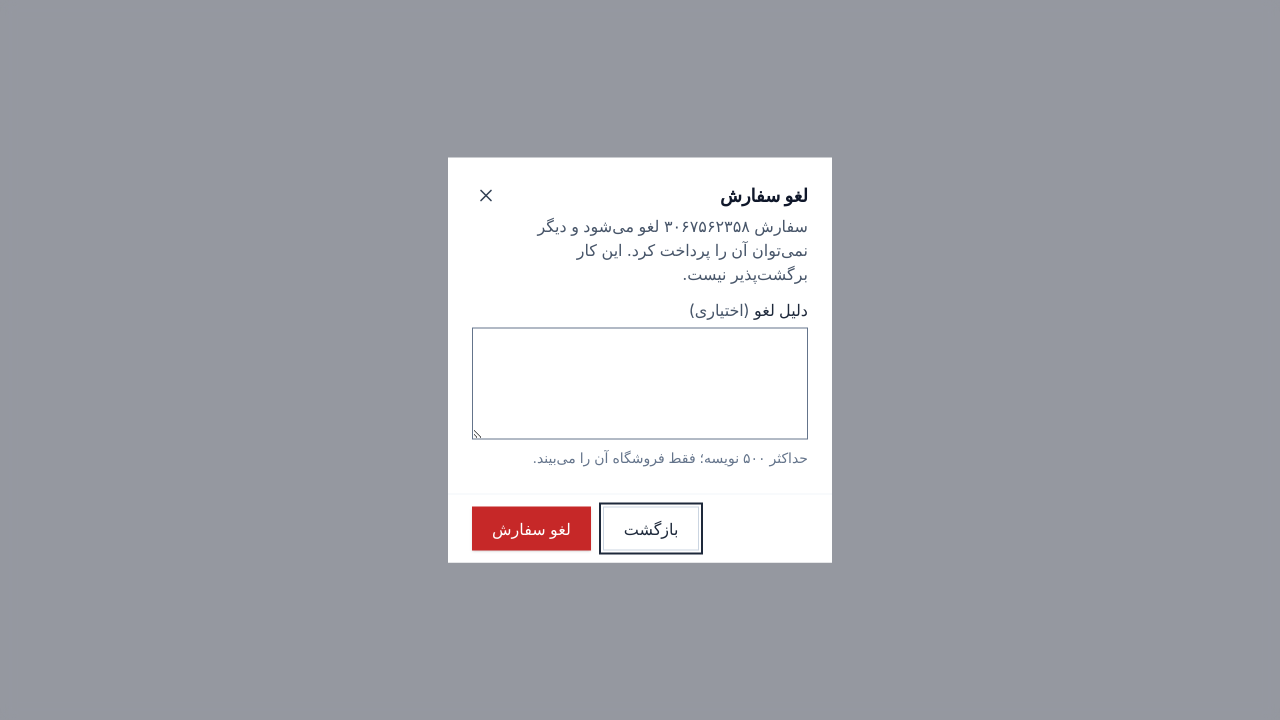
Test: refused › 409 order_cancellation_not_allowed: said, the order read again, only «بازگشت» left
The width and height of the screenshot is (1280, 720).
Click the button "لغو سفارش". click: {"x": 531, "y": 528}
box: [472, 506, 591, 550]
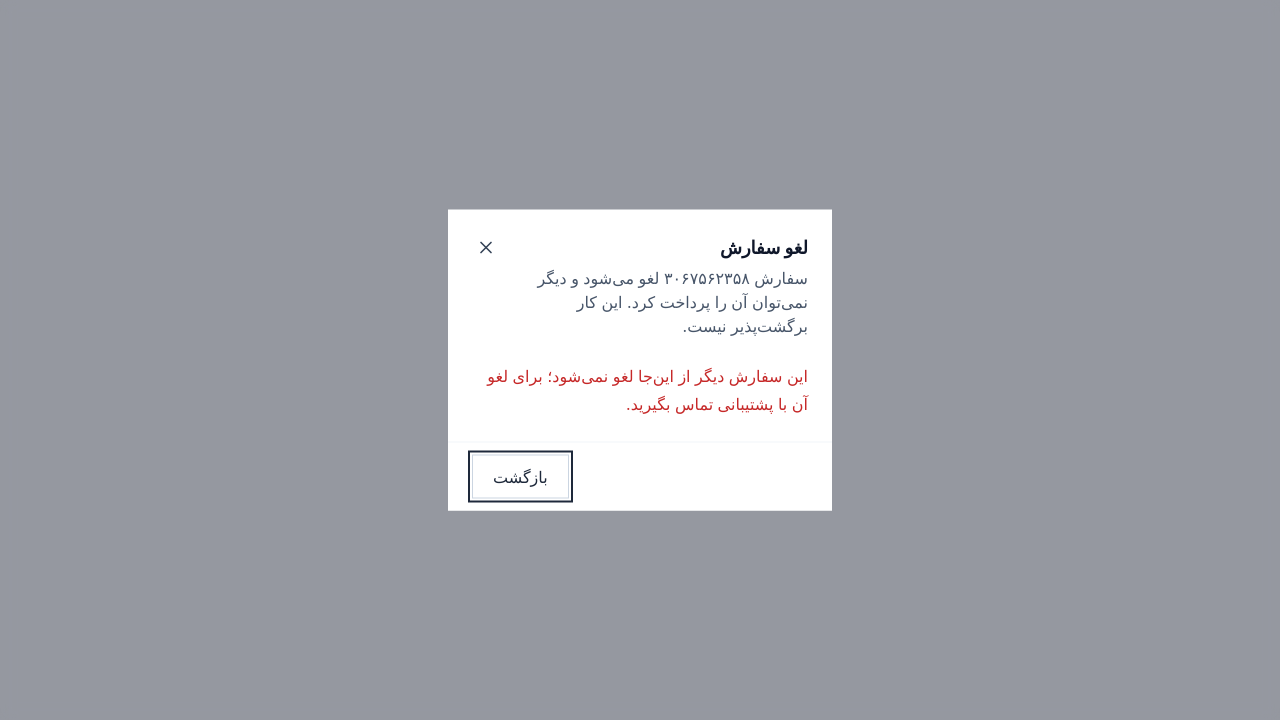
Expected: the message shows "برای لغو آن با پشتیبانی تماس بگیرید", [487, 366, 808, 414]
